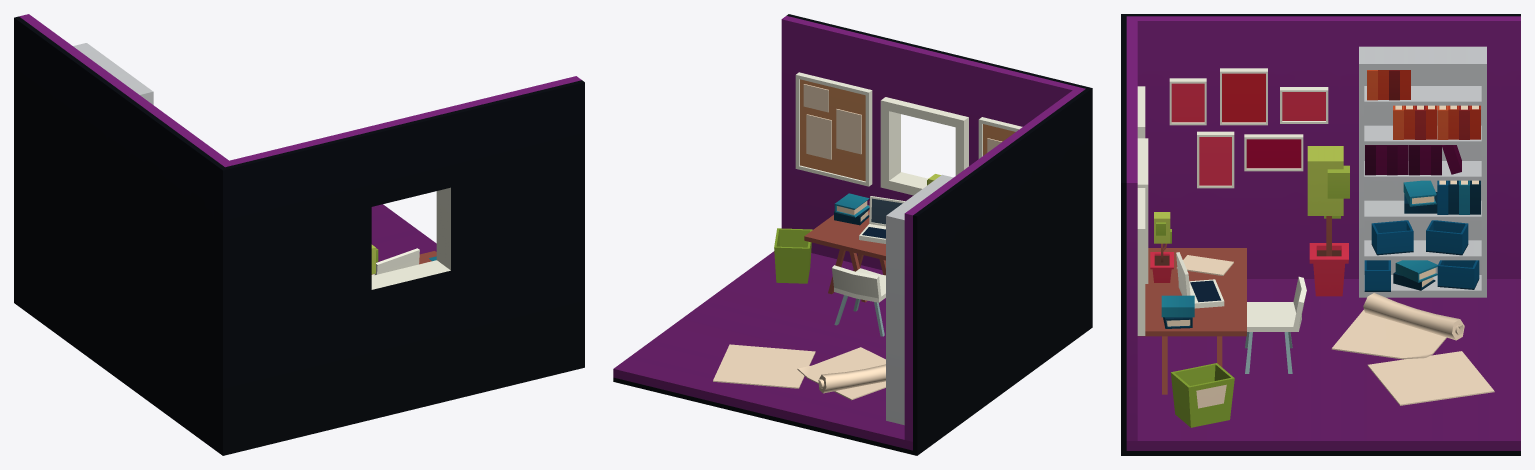
Rendered from KidsRoom.fbx.
3 views of the same model, side by side, from view 1: azimuth 30°, elevation 25°; view 2: azimuth 150°, elevation 25°; view 3: azimuth 270°, elevation 25° (orthographic). The views are drawn at different scales.
Visible parts, largest first — view 1: Walls2.001, BookShelf, Laptop; view 2: Walls2.001, Cork_Board2, BookShelf, Paper8, Container1, Paper7, Top.002, Top1, Paper_Roll, Laptop, Paper4, Paper5 (+3 smaller); view 3: Walls2.001, BookShelf, Top.002, Paper8, Paper7, Container1, Picture9, Picture12, Picture11, pCube11, Paper_Roll, Top1 (+20 smaller).
Part boxes in pixels (x1=…): Walls2.001: x1=14, y1=14, x2=584, y2=455; BookShelf: x1=73, y1=43, x2=153, y2=104; Laptop: x1=371, y1=248, x2=419, y2=275; Walls2.001: x1=613, y1=14, x2=1092, y2=455; Cork_Board2: x1=795, y1=72, x2=872, y2=186; BookShelf: x1=886, y1=174, x2=953, y2=425; Paper8: x1=713, y1=344, x2=815, y2=388; Container1: x1=774, y1=228, x2=812, y2=283; Paper7: x1=797, y1=347, x2=885, y2=400; Top.002: x1=804, y1=205, x2=885, y2=260; Top1: x1=832, y1=265, x2=885, y2=302; Paper_Roll: x1=818, y1=364, x2=885, y2=393; Laptop: x1=859, y1=196, x2=905, y2=243; Paper4: x1=806, y1=114, x2=831, y2=159; Paper5: x1=836, y1=109, x2=861, y2=154; Walls2.001: x1=1121, y1=14, x2=1520, y2=455; BookShelf: x1=1359, y1=46, x2=1486, y2=297; Top.002: x1=1138, y1=248, x2=1246, y2=336; Paper8: x1=1367, y1=351, x2=1494, y2=405; Paper7: x1=1331, y1=310, x2=1446, y2=359; Container1: x1=1170, y1=363, x2=1234, y2=427; Picture9: x1=1220, y1=68, x2=1267, y2=125; Picture12: x1=1244, y1=134, x2=1303, y2=171; Picture11: x1=1197, y1=131, x2=1234, y2=188; pCube11: x1=1307, y1=146, x2=1343, y2=215; Paper_Roll: x1=1363, y1=293, x2=1464, y2=340; Top1: x1=1247, y1=276, x2=1306, y2=331.
Bounding box in the file's own units: 365 × 275 × 365.
Materials: 1 (1 with a texture image).
